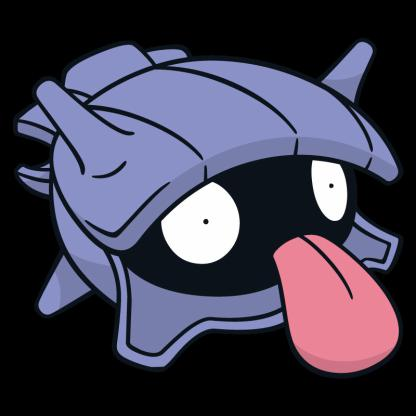Shellder: (9, 18, 416, 382)
